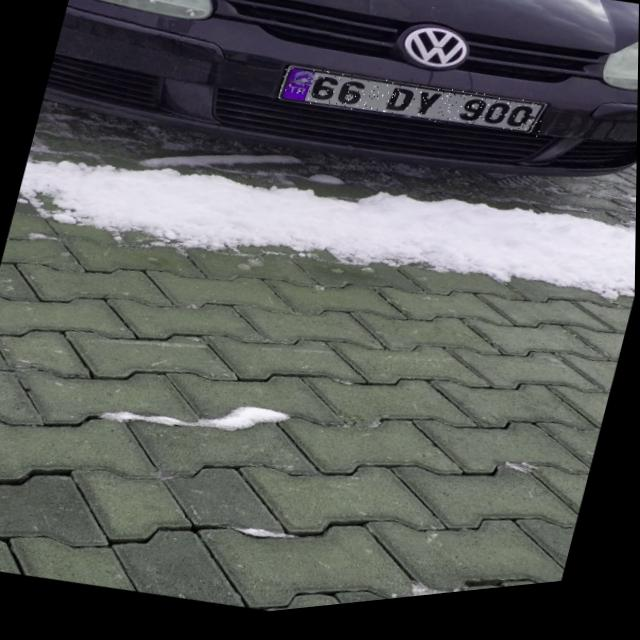license_plate: (276, 50, 547, 170)
